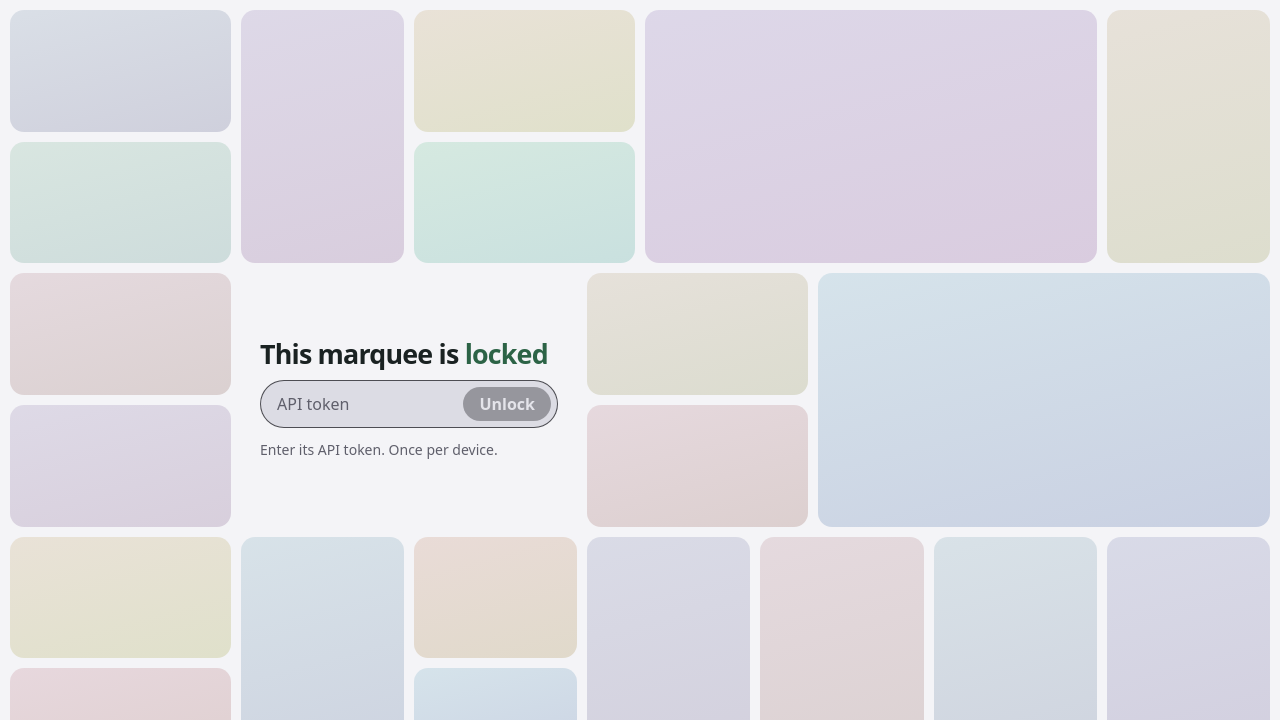
Scenario: typing clears the line at once
Click the 1st element with class "utile".
click(120, 71)  # box [5,5,236,137]
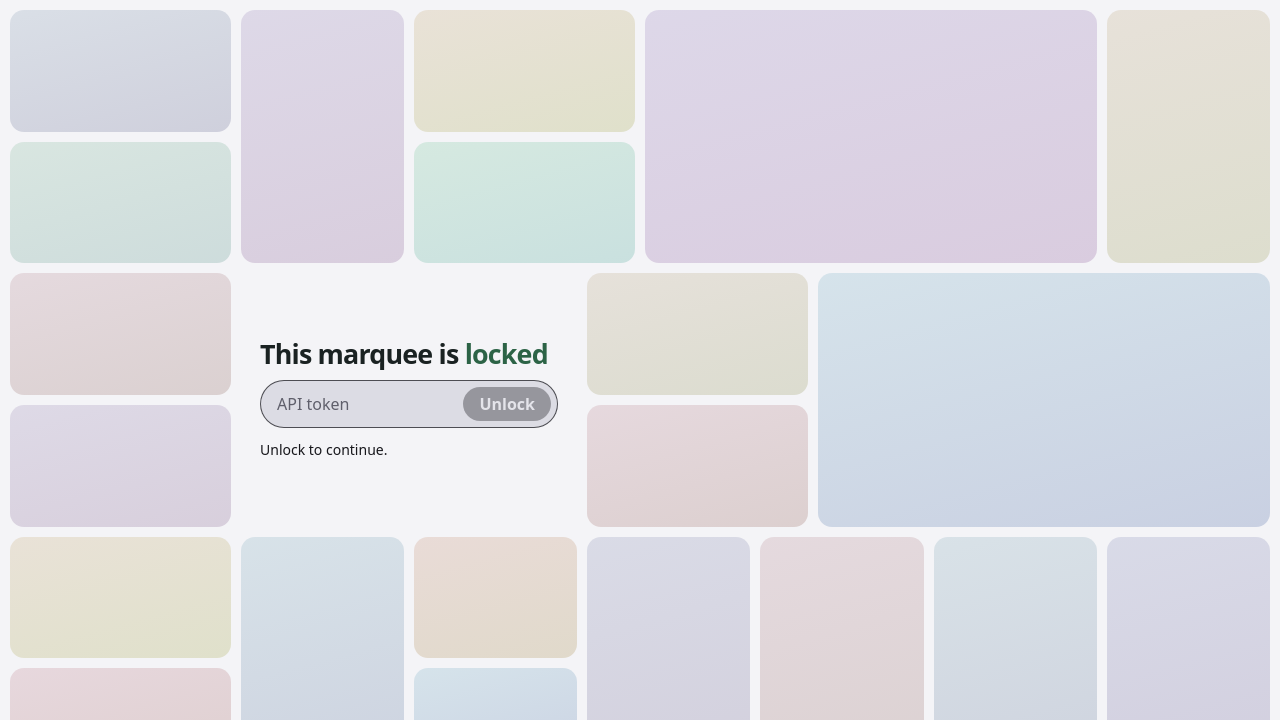
Type "a" into the password field labelled "API token".
click(366, 404); type("a")  # box [277,381,456,427]
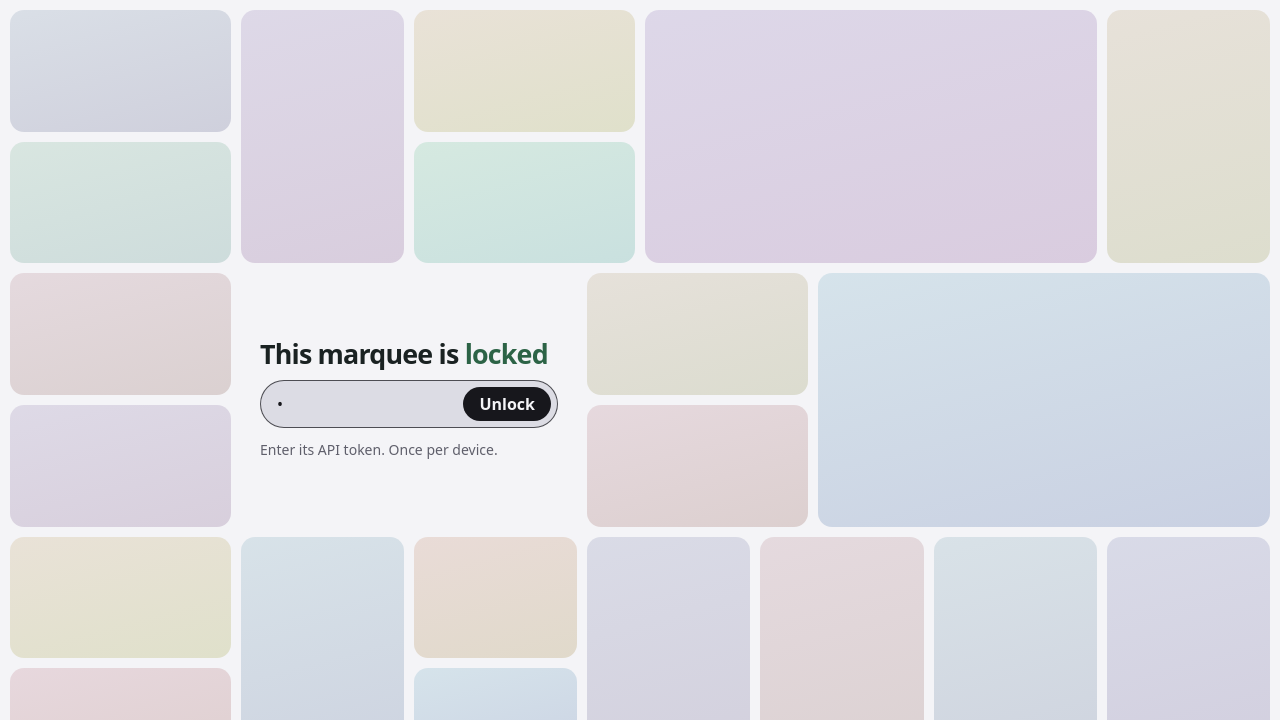
expect the text "Unlock to continue." is gone: met
